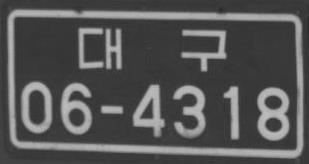0: (19, 80, 53, 134)
1: (216, 85, 247, 139)
3: (172, 83, 207, 138)
4: (133, 83, 165, 137)
6: (60, 81, 92, 135)
8: (256, 86, 290, 140)
대구_D: (78, 26, 227, 71)
